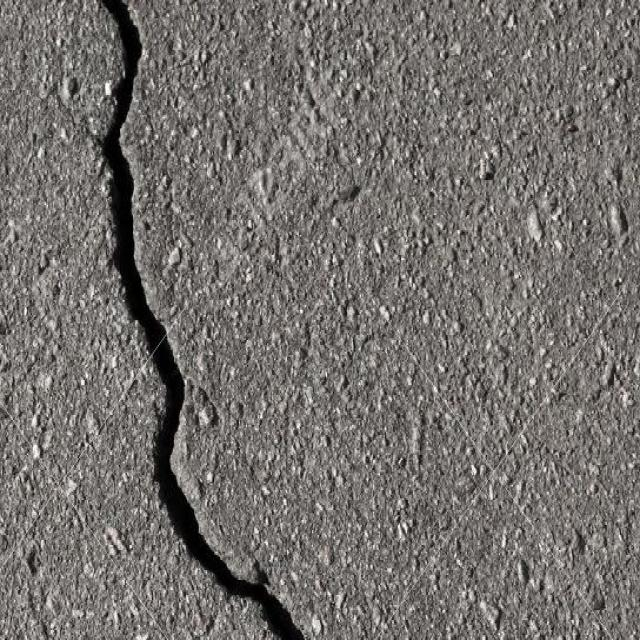crack: (93, 0, 306, 636)
